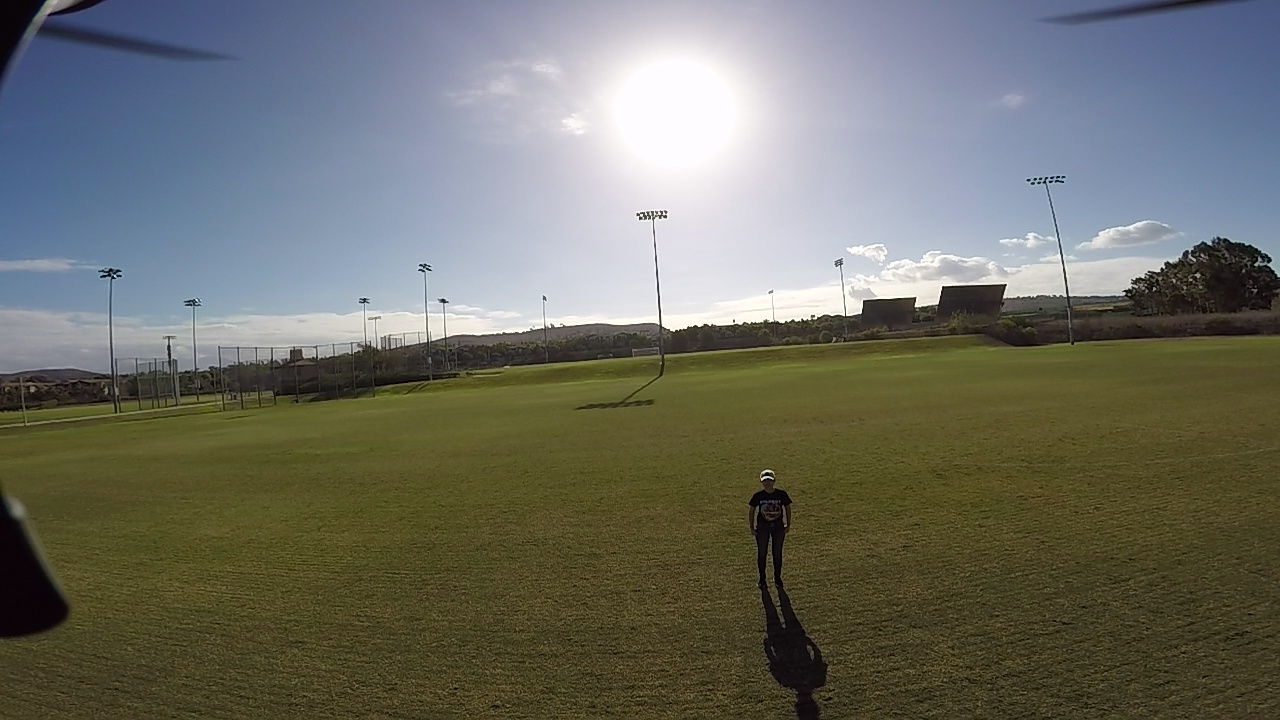person: (745, 468, 793, 615)
